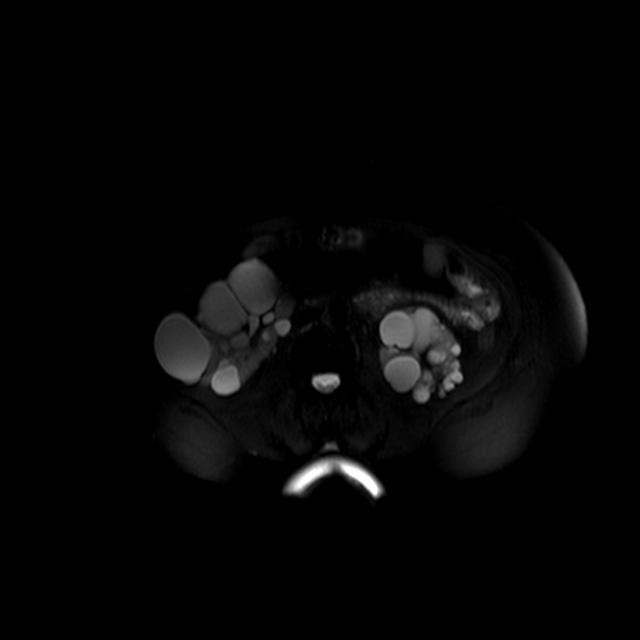sag: (154, 257, 294, 393)
sol: (378, 306, 462, 403)
